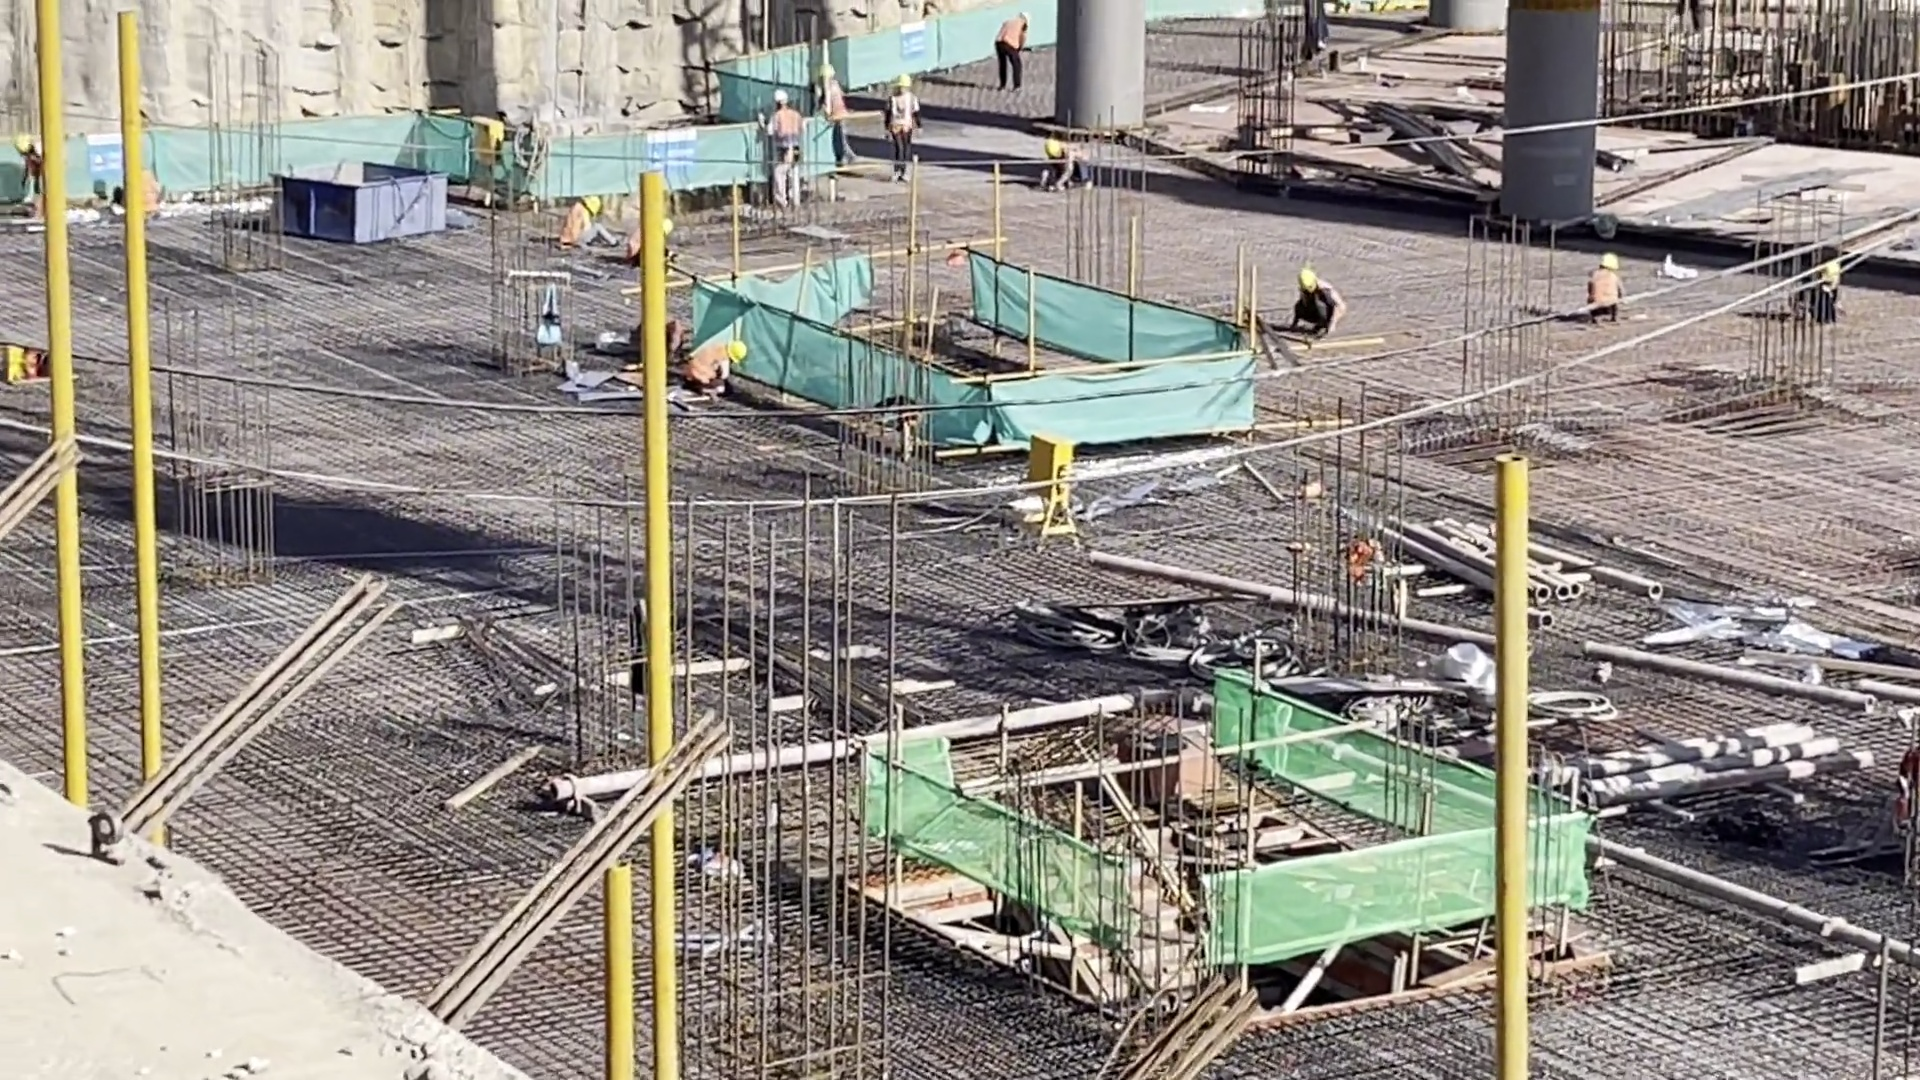helmet: (726, 340, 747, 365), (1600, 252, 1619, 270), (582, 195, 599, 216), (1297, 271, 1315, 290), (1044, 140, 1061, 157), (894, 74, 912, 88), (15, 135, 29, 152)
person: (765, 92, 804, 212), (888, 74, 921, 183), (993, 8, 1032, 88), (686, 341, 746, 391), (1294, 270, 1338, 338), (562, 195, 620, 247), (16, 138, 50, 224), (817, 68, 847, 168), (1587, 252, 1622, 323), (1043, 141, 1079, 196)
vest: (1586, 262, 1613, 311), (690, 346, 729, 377), (777, 107, 796, 146), (563, 200, 583, 238), (998, 19, 1021, 49)
